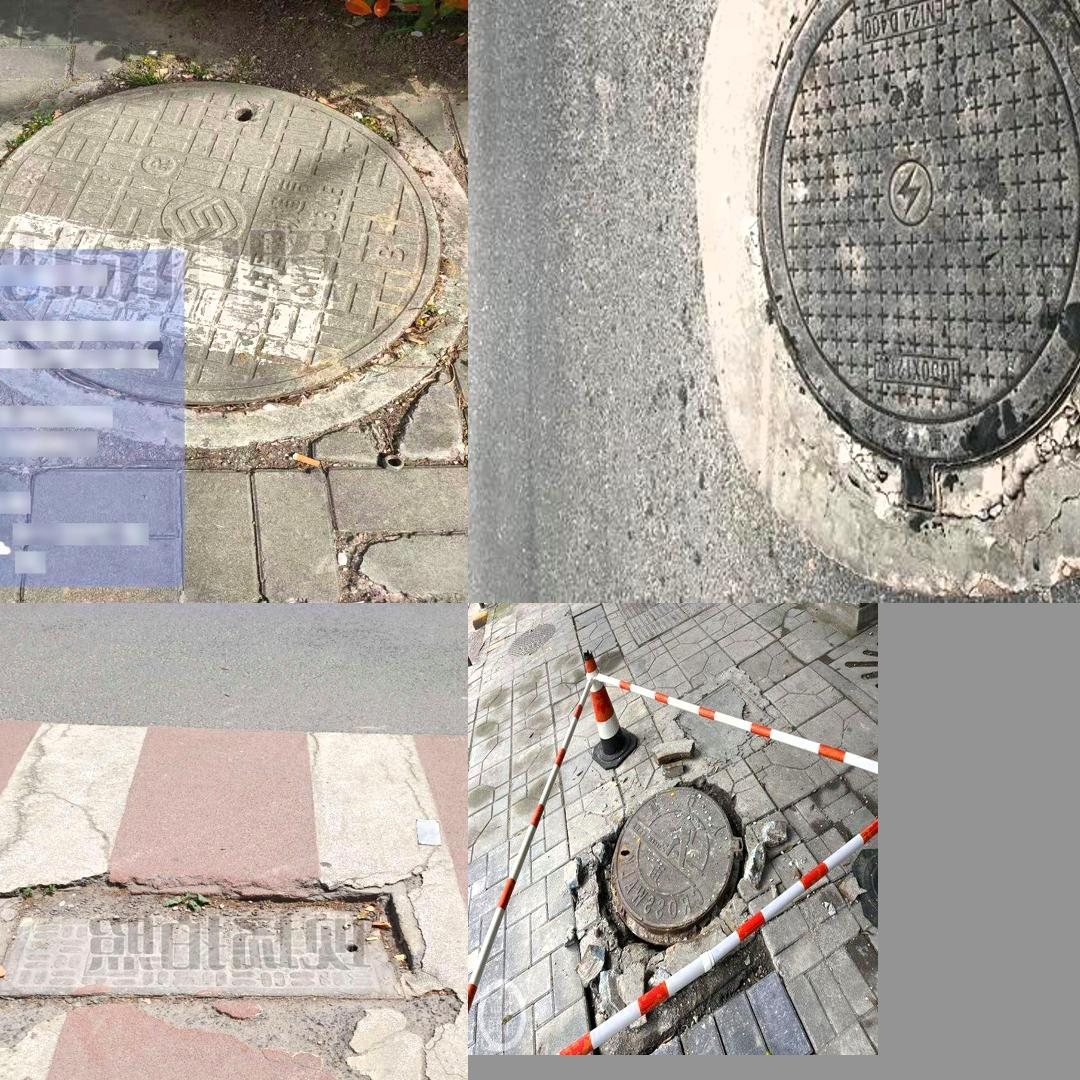circle: (699, 0, 1080, 586), (0, 64, 456, 433), (576, 758, 776, 1039), (0, 886, 428, 1005)
